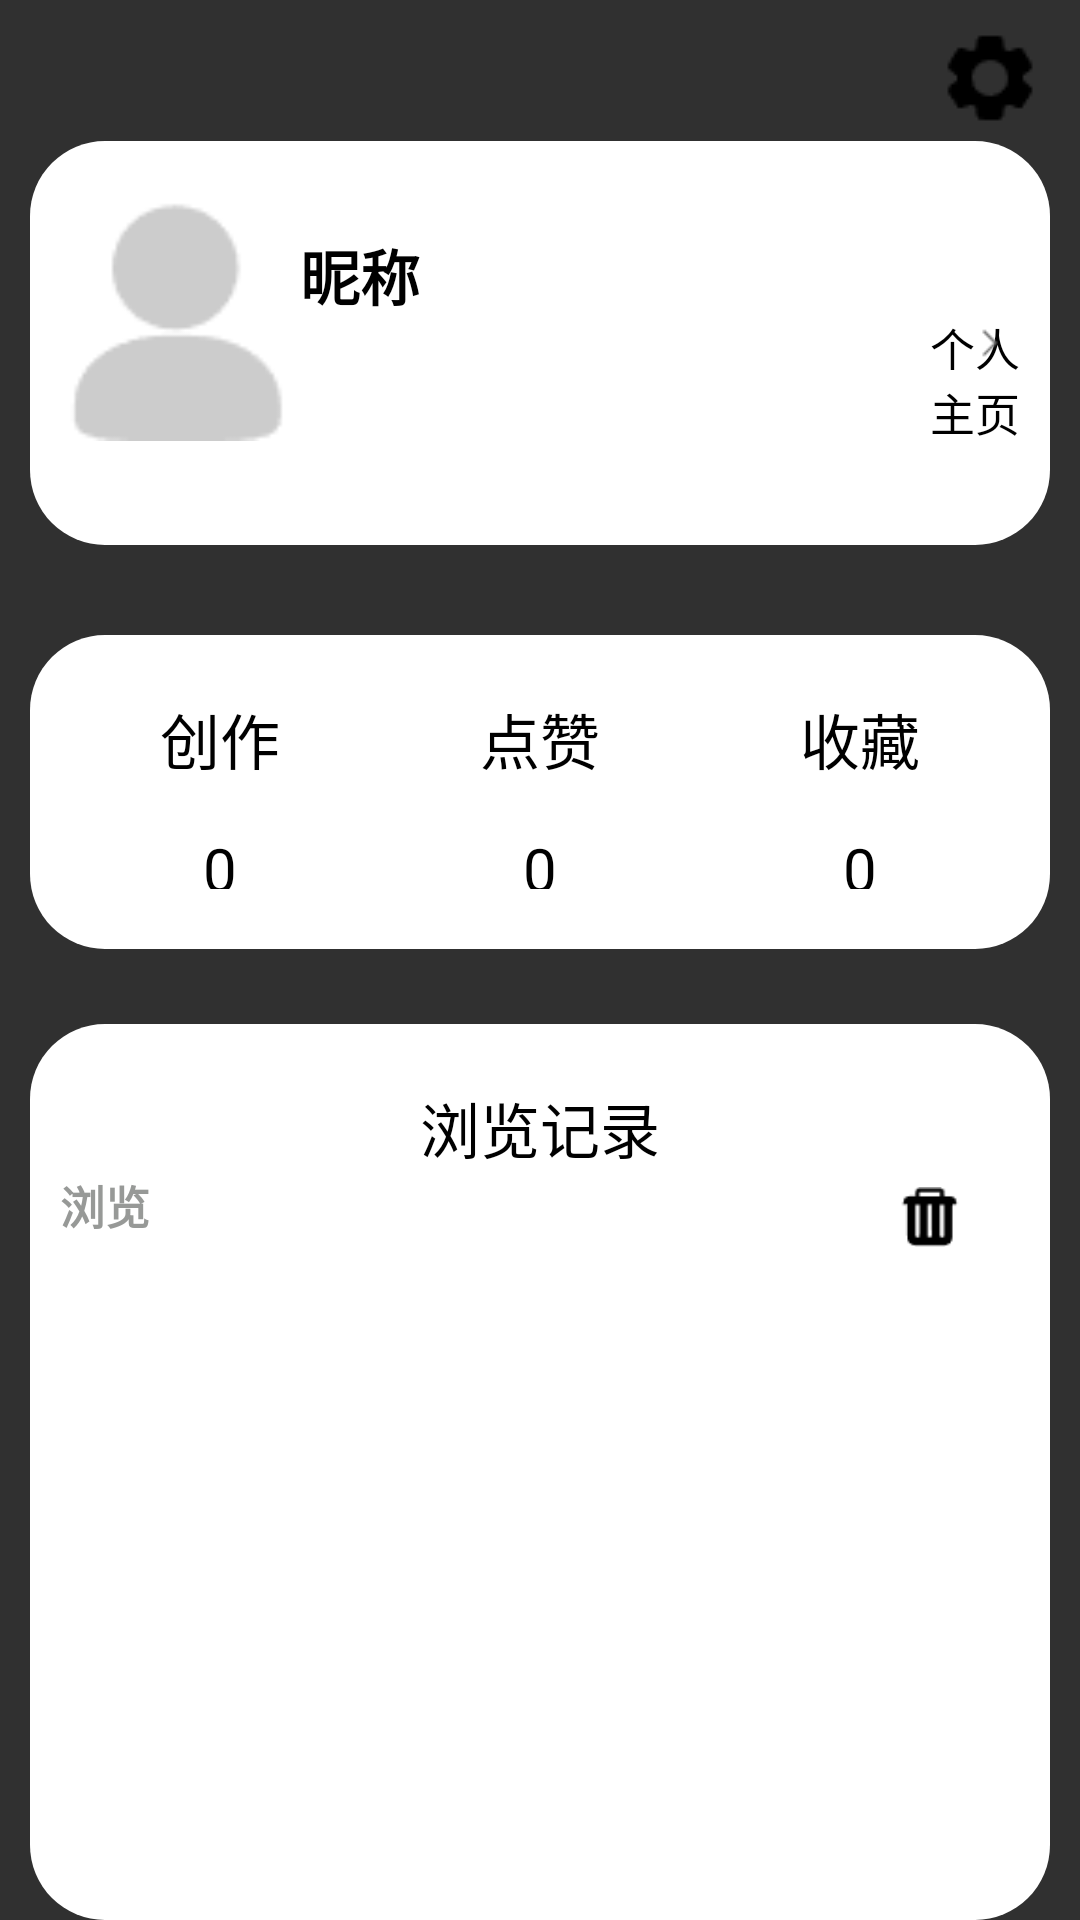

Screen size 1080*1920. Icon name, then its center in pixels as [x,y]:
deleteimage: [929,1217]
morentouxiang: [178,323]
setting: [990,78]
